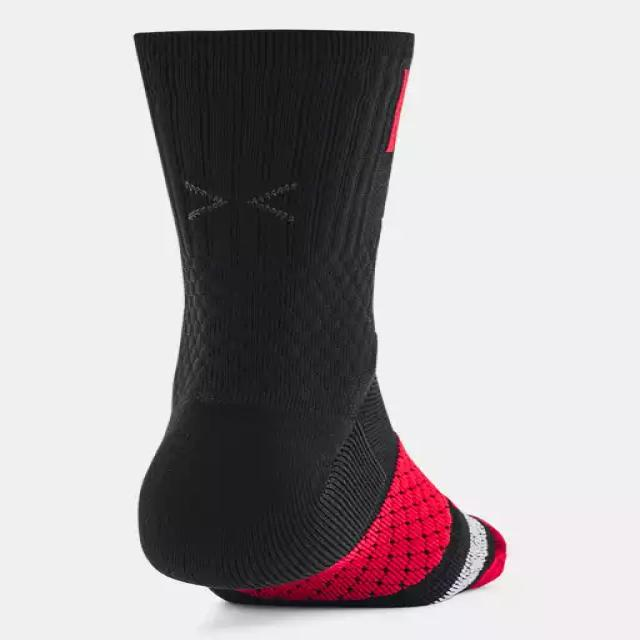sock: (132, 29, 506, 607)
